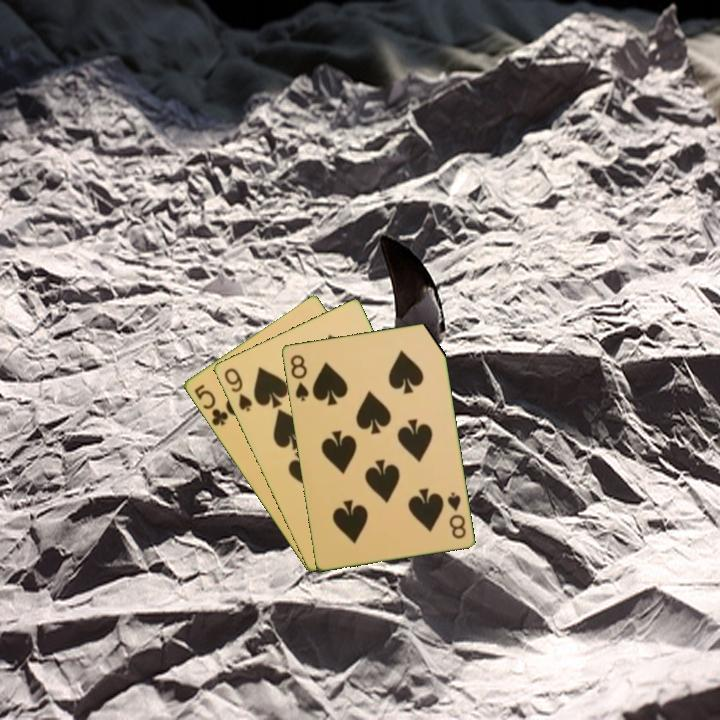5c: (190, 381, 231, 429)
8s: (286, 351, 311, 404), (443, 488, 468, 541)
9s: (220, 364, 255, 414)
